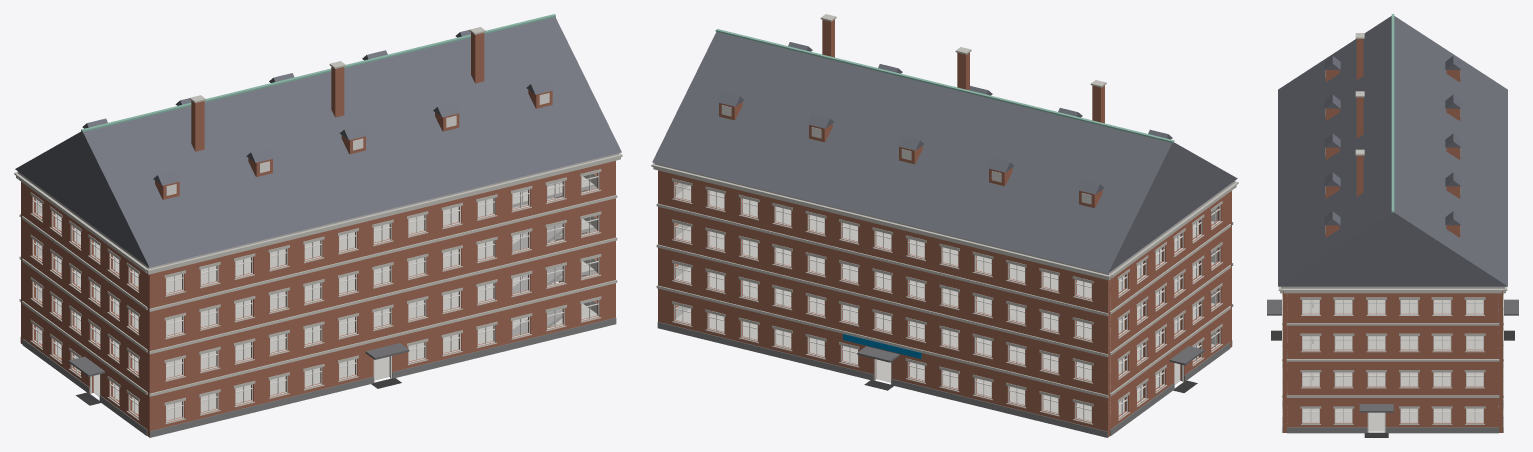
Rendered from SM_Bygg_Gamle_fysikk.fbx.
3 views of the same model, side by side, from view 1: azimuth 30°, elevation 25°; view 2: azimuth 150°, elevation 25°; view 3: azimuth 270°, elevation 25° (orthographic). The views are drawn at different scales.
Parts seen in each view (by area): view 1: SM_Bygg_Gamle_fysikk; view 2: SM_Bygg_Gamle_fysikk; view 3: SM_Bygg_Gamle_fysikk.
Part boxes in pixels (x1,y1,x2,y2): SM_Bygg_Gamle_fysikk: (14, 14, 622, 437); SM_Bygg_Gamle_fysikk: (651, 14, 1238, 437); SM_Bygg_Gamle_fysikk: (1267, 14, 1518, 437).
Bounding box in the file's own units: 25.2 × 49.2 × 27.01.
